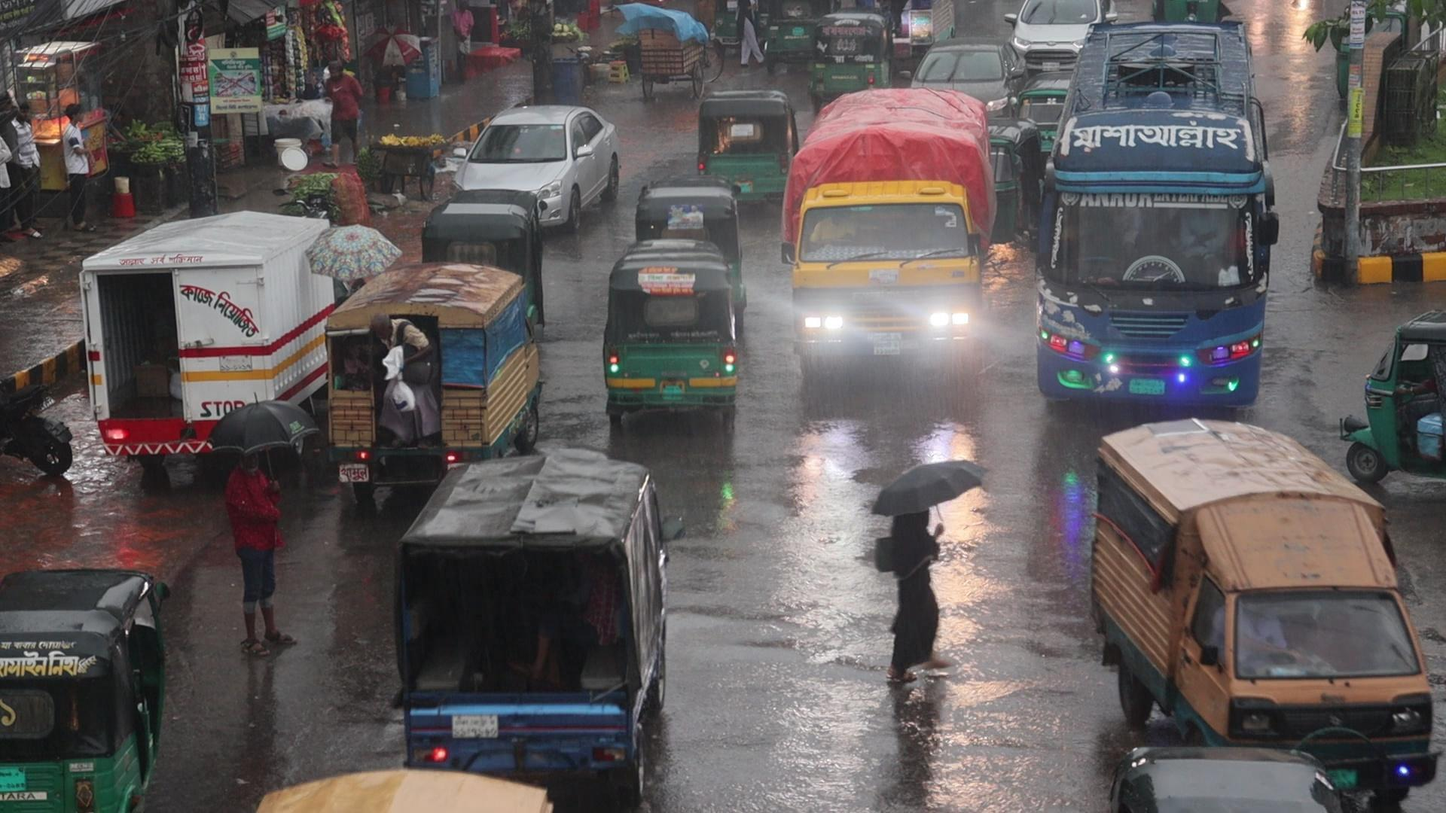Bus: (1033, 19, 1277, 413)
Car: (447, 103, 622, 196)
Truck: (1085, 417, 1438, 755), (390, 445, 673, 755), (778, 88, 996, 385), (321, 259, 542, 460)
